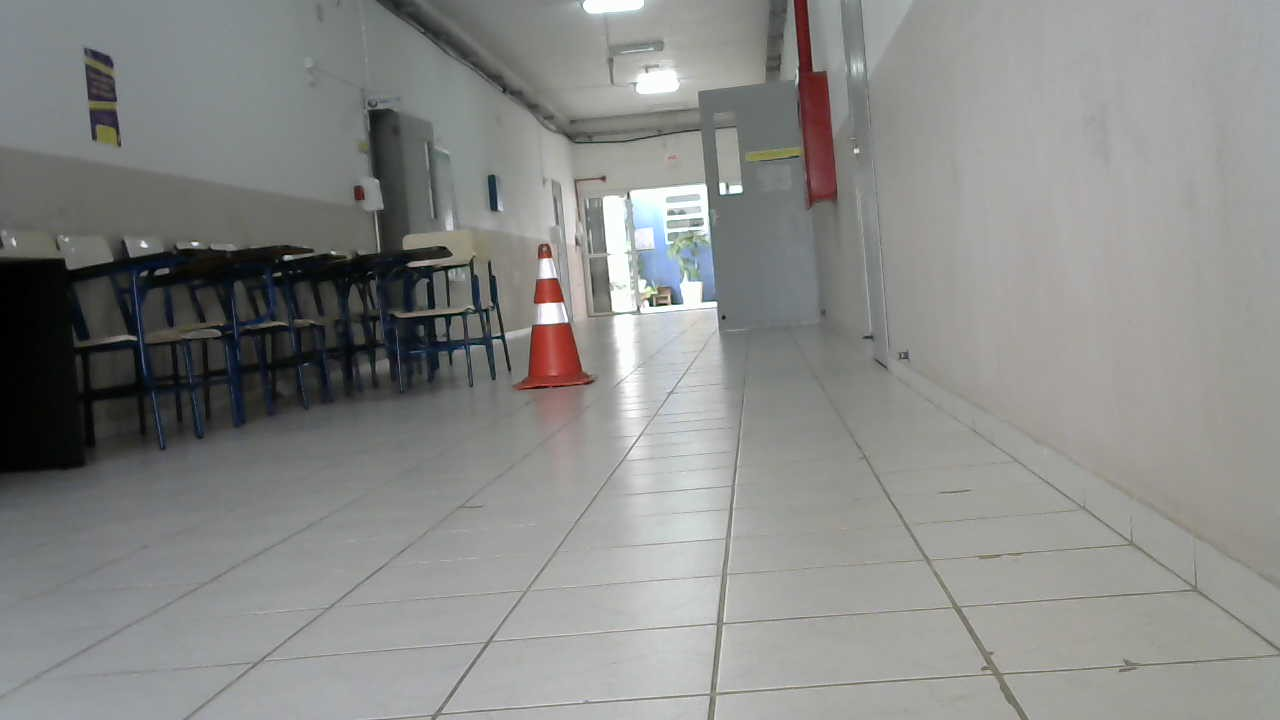cone: (511, 242, 597, 387)
